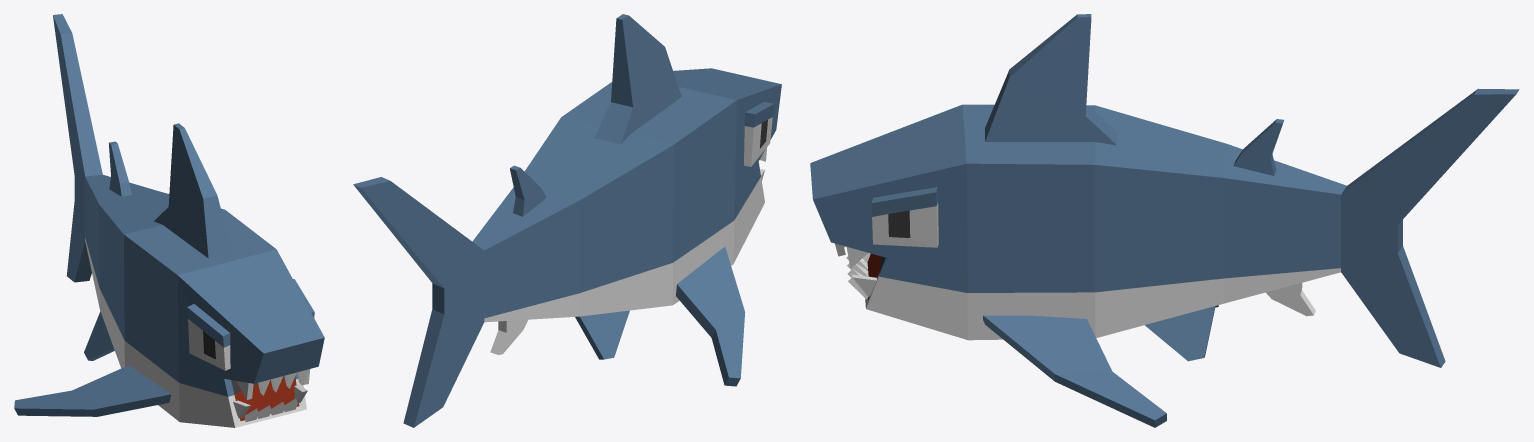
Rendered from frame_02.fbx.
3 renders of one model, left to right at view 1: azimuth 30°, elevation 25°; view 2: azimuth 150°, elevation 25°; view 3: azimuth 270°, elevation 25°, orthographic. The views are drawn at different scales.
Visible parts, largest first — view 1: Cube.001; view 2: Cube.001; view 3: Cube.001.
Boxes of the visible parts, bbox=[...] form: Cube.001: bbox=[14, 14, 324, 427]; Cube.001: bbox=[353, 14, 781, 427]; Cube.001: bbox=[810, 14, 1519, 427].
Size of the model in its own units: 4.94 by 4.87 by 9.33.
